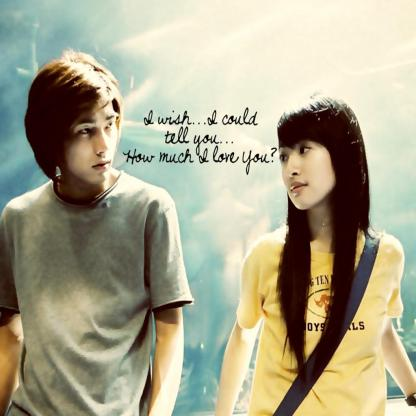face: (65, 96, 120, 184), (278, 124, 333, 209)
